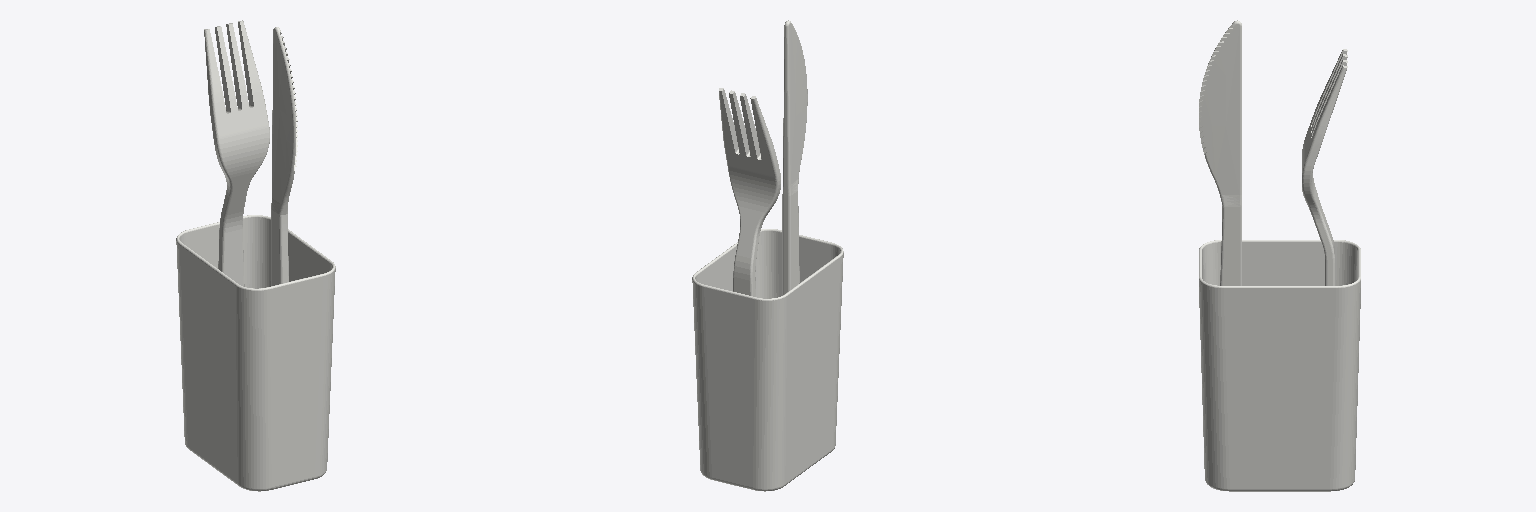
URDF robot description (cb_utensil_bin_v_knife_fork):
<?xml version="1.0"?>
<!-- ContactBench utensil_bin_v_knife_fork. Generated by FoundationTouch tools/contactbench/make_contactbench_assets.py -->
<robot name="cb_utensil_bin_v_knife_fork">
  <material name="c"><color rgba="0.92 0.92 0.90 1.0"/></material>
  <link name="receptive">
    <visual><origin xyz="0 0 0" rpy="0 0 0"/><geometry><mesh filename="utensil_bin_v_knife_fork.obj" scale="1 1 1"/></geometry><material name="c"/></visual>
    <collision><origin xyz="0 0 0" rpy="0 0 0"/><geometry><mesh filename="utensil_bin_v_knife_fork.obj" scale="1 1 1"/></geometry><sdf resolution="512"/></collision>
  </link>
</robot>

--- Render facts (derived) ---
3 views of the same robot in one strip: view 1: azimuth 30°, elevation 25°; view 2: azimuth 150°, elevation 25°; view 3: azimuth 270°, elevation 25° (orthographic).
Robot: cb_utensil_bin_v_knife_fork — 1 links, 0 joints (none); root link receptive; default pose: all joints at 0.
Links seen in each view (by area): view 1: receptive; view 2: receptive; view 3: receptive.
Link boxes in pixels (x1,y1,x2,y2): receptive: (176, 20, 335, 491); receptive: (692, 20, 843, 491); receptive: (1199, 20, 1360, 491).
Bounding box of the posed robot: 0.045 × 0.065 × 0.1985 m (x, y, z).
1 mesh visuals loaded from 1 distinct referenced files (1 OBJ).
